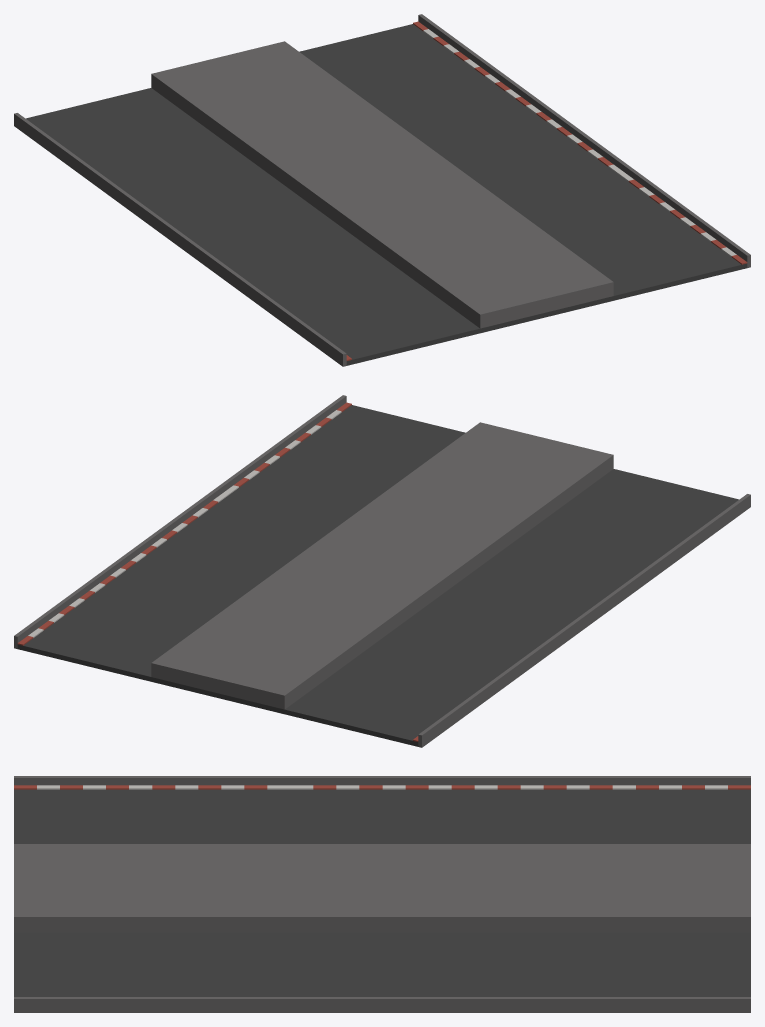
The model's file is tp-highway.glb.
3 views of the same model, one above another, from view 1: azimuth 30°, elevation 25°; view 2: azimuth 150°, elevation 25°; view 3: azimuth 270°, elevation 25° (orthographic). The views are drawn at different scales.
Parts seen in each view (by area): view 1: tp-highway; view 2: tp-highway; view 3: tp-highway.
Boxes of the visible parts, box(x1,y1,x2,y2) form: tp-highway: box(14, 14, 750, 366); tp-highway: box(14, 395, 750, 747); tp-highway: box(14, 776, 750, 1012).
Size of what is drawn, in the model's own units: 44.7 by 1.96 by 62.42.
1 material, 1 textured.
